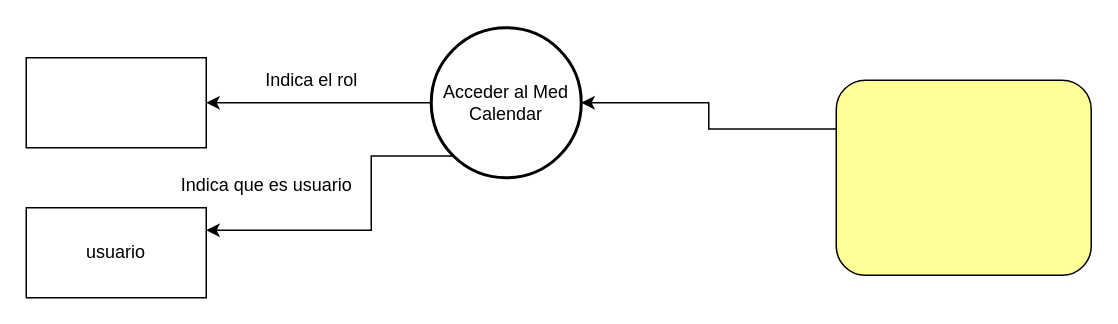
Image size: 1118x324. Some labels were removed from this diagram. Here are the shapes that lost their labels. From the top down, the centre of each, then its label:
At (x=115, y=102): "Rol".
At (x=963, y=177): "Med Calendar".
